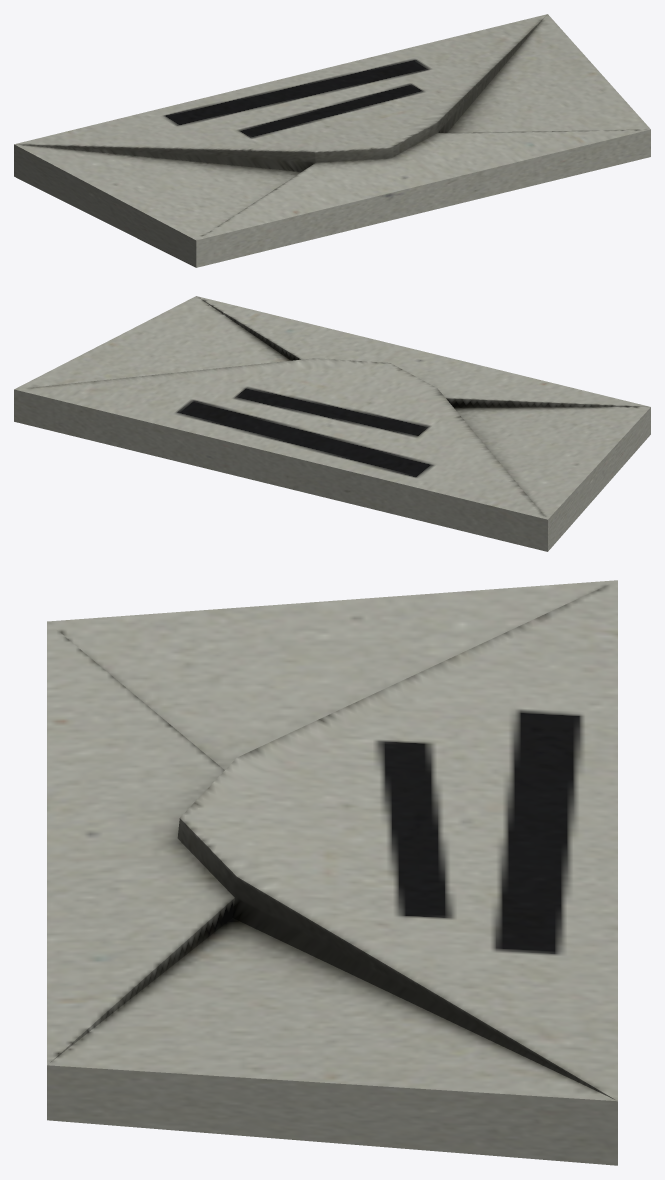
File: Prop_Letter.FBX
The picture shows the model from 3 angles, top to bottom: view 1: azimuth 30°, elevation 25°; view 2: azimuth 150°, elevation 25°; view 3: azimuth 270°, elevation 25°; orthographic projection. The views are drawn at different scales.
Visible parts, largest first — view 1: Prop_Letter; view 2: Prop_Letter; view 3: Prop_Letter.
Boxes of the visible parts, x1=… form: Prop_Letter: x1=14, y1=14, x2=650, y2=267; Prop_Letter: x1=14, y1=296, x2=650, y2=551; Prop_Letter: x1=47, y1=580, x2=617, y2=1165.
Size of the model in its own units: 35.23 by 2.78 by 16.31.
